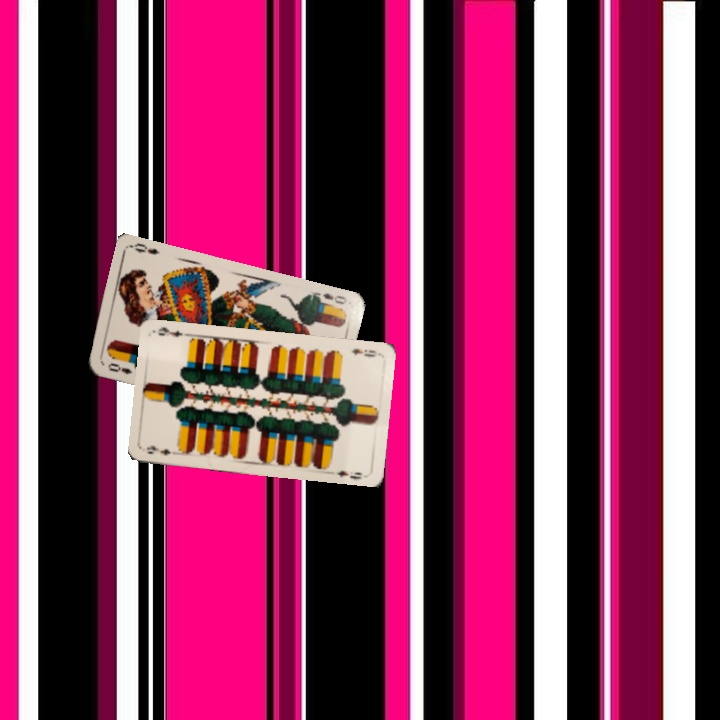E9: (143, 442, 182, 458), (348, 345, 381, 360)
EO: (311, 288, 349, 309), (104, 359, 134, 377)
